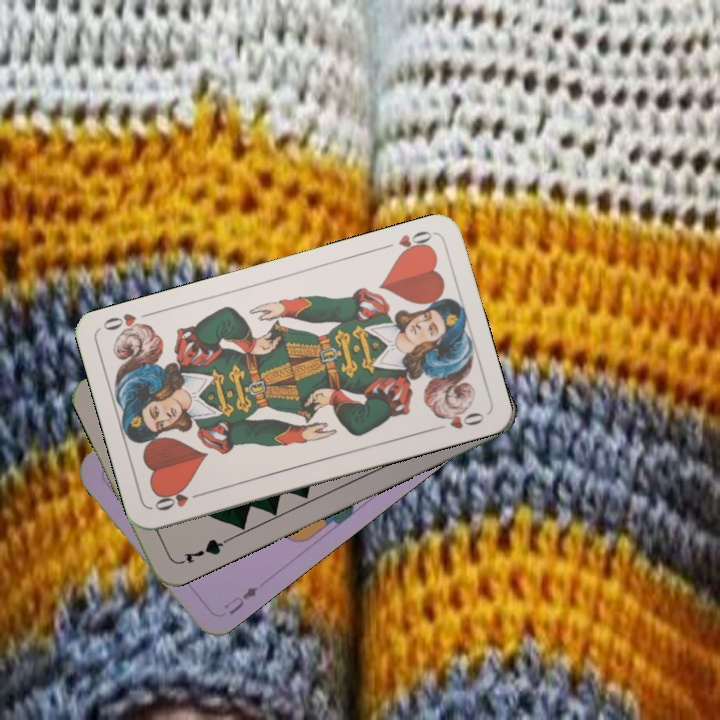EU: (220, 582, 261, 618)
G7: (174, 534, 230, 567)
HO: (377, 226, 435, 259), (150, 485, 208, 514)
